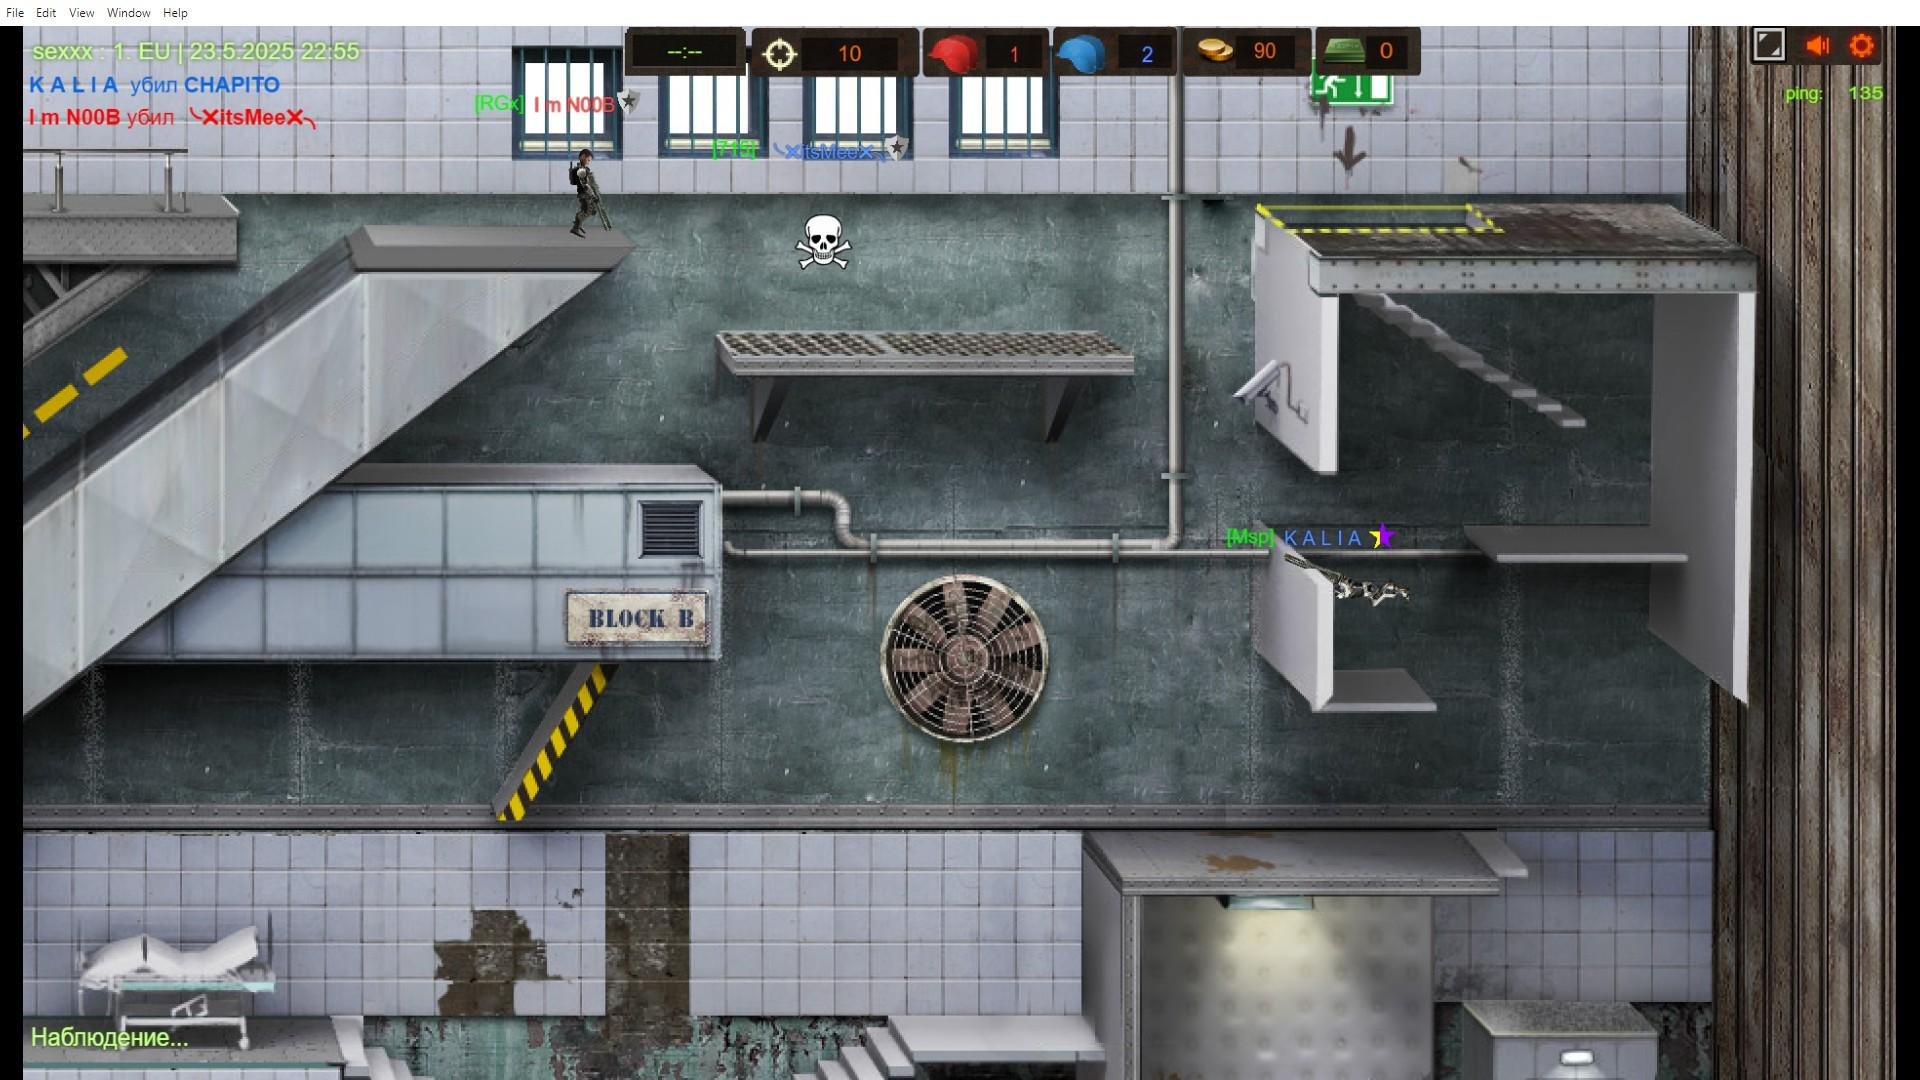enemy: (564, 142, 612, 241), (1309, 562, 1411, 605)
